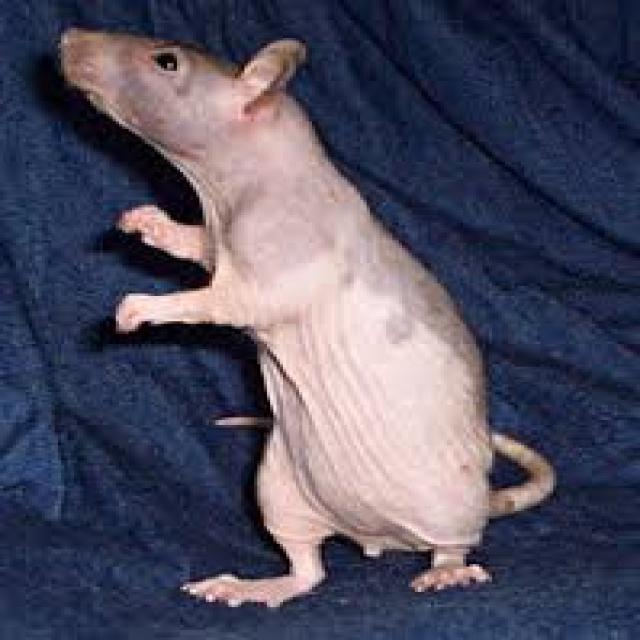Rat: (24, 4, 613, 618)
